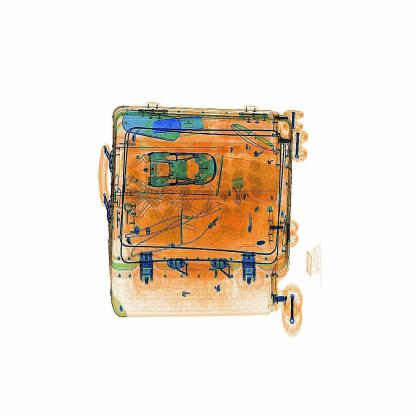pliers: (150, 112, 210, 138)
